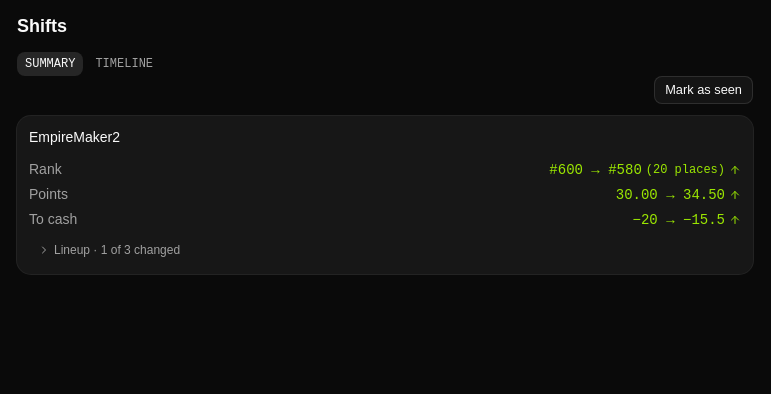
Test case: the lineup diff on a VIP card › lists every slot in the order the feed gives them, showing both statuses for a game that changed and one otherwise
Check: the heading "Shifts" is shown, box [17,16,67,36]
Click the button "Lineup · 1 of 3 changed" at (77, 250), box [29,238,741,262]
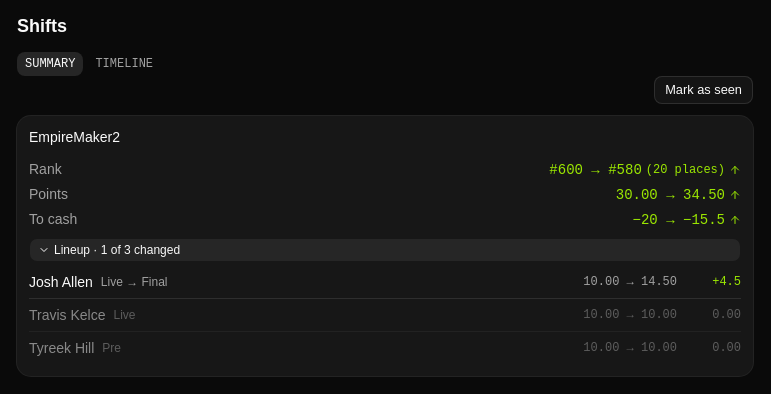
Check: the text "Live → Final" is shown, box [101,274,168,290]
Check: the text "Live" is shown, box [114,307,136,323]
Check: the text "Pre" is shown, box [102,340,121,356]
